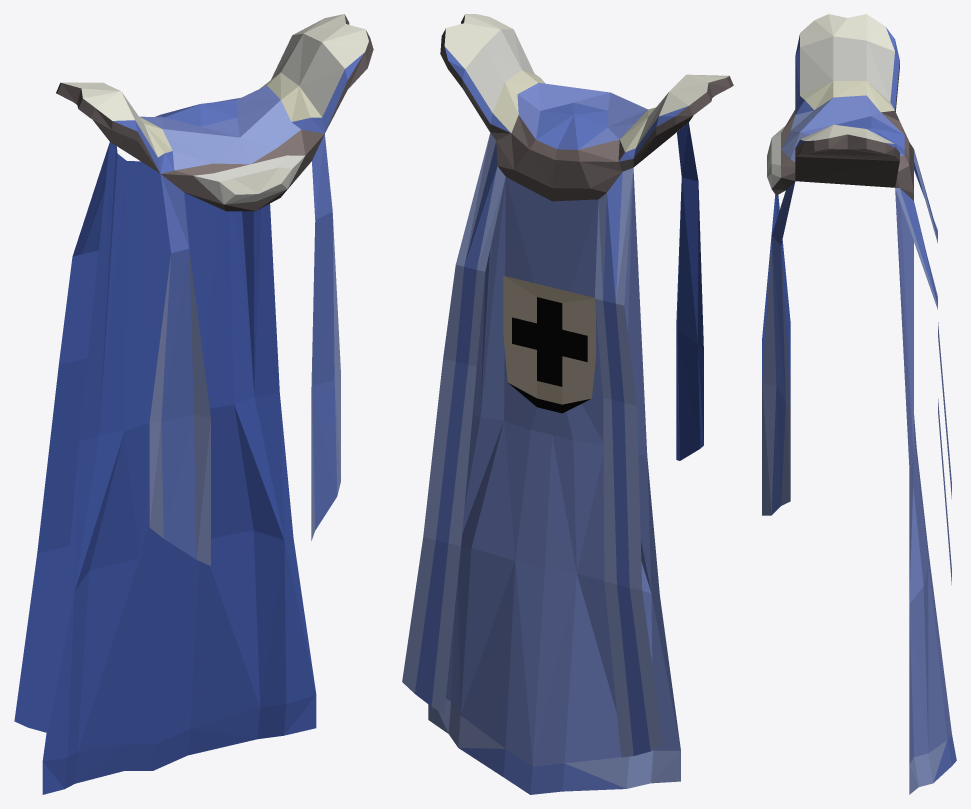
Rendered from defence.gltf.
3 renders of one model, left to right at view 1: azimuth 30°, elevation 25°; view 2: azimuth 150°, elevation 25°; view 3: azimuth 270°, elevation 25°, orthographic. The views are drawn at different scales.
Size of the model in its own units: 64 by 159 by 41.
1 material, 1 textured.
